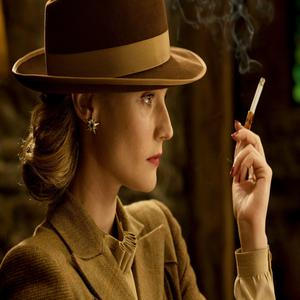cigarette: (240, 76, 267, 141)
